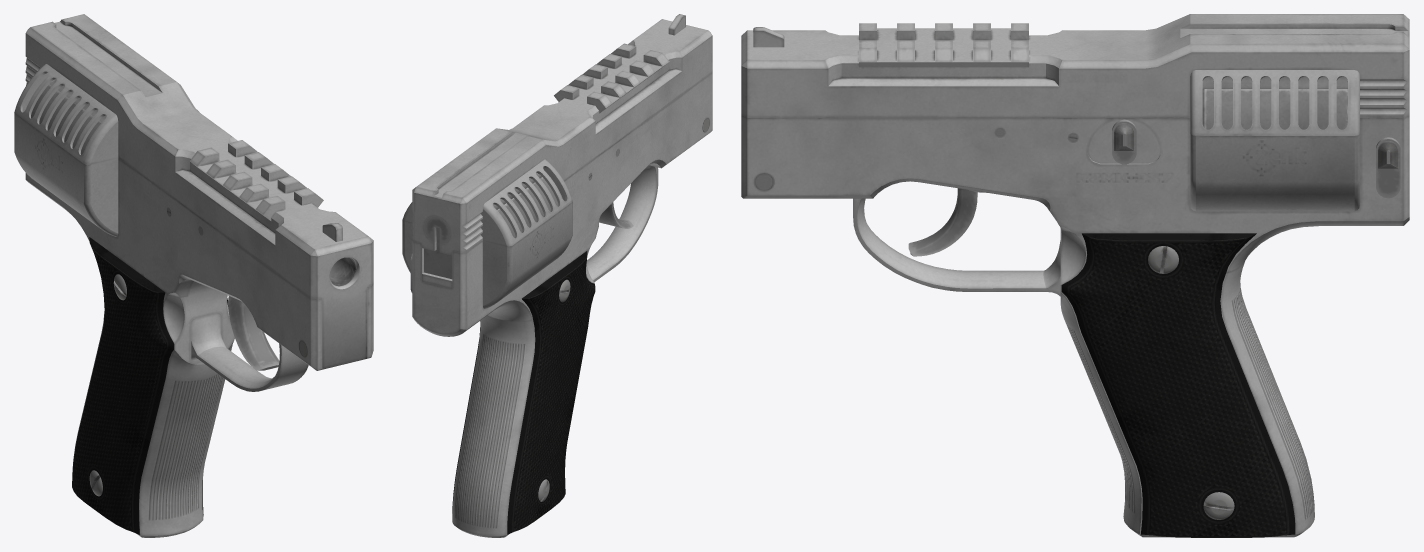
The model's file is zenk_rzmk-357.glb.
3 renders of one model, left to right at view 1: azimuth 30°, elevation 25°; view 2: azimuth 150°, elevation 25°; view 3: azimuth 270°, elevation 25°, orthographic. The views are drawn at different scales.
Visible parts, largest first — view 1: RZMK_main, RZMK_upper, RZMK_upper_shroud_low.001, RZMK_trigger_low.001, RZMK_cylinder_low.001, RZMK_barrel_low.001; view 2: RZMK_main, RZMK_upper, RZMK_upper_shroud_low.001, RZMK_cylinder_low.001, RZMK_hammer_low.001, RZMK_breach_low.001, RZMK_trigger_low.001; view 3: RZMK_main, RZMK_upper, RZMK_upper_shroud_low.001, RZMK_cylinder_low.001, RZMK_trigger_low.001, RZMK_release_low.001, RZMK_selector_low.001.
Boxes of the visible parts, x1,y1,x2,y2 form: RZMK_main: (14,110,373,537); RZMK_upper: (25,14,373,369); RZMK_upper_shroud_low.001: (14,64,198,164); RZMK_trigger_low.001: (228,296,279,370); RZMK_cylinder_low.001: (31,79,106,154); RZMK_barrel_low.001: (330,257,356,286); RZMK_main: (402,72,712,537); RZMK_upper: (412,19,712,288); RZMK_upper_shroud_low.001: (402,159,572,246); RZMK_cylinder_low.001: (493,172,558,237); RZMK_hammer_low.001: (424,227,452,279); RZMK_breach_low.001: (424,217,449,243); RZMK_trigger_low.001: (599,202,633,228); RZMK_main: (741,115,1409,537); RZMK_upper: (741,14,1409,117); RZMK_upper_shroud_low.001: (1190,70,1359,135); RZMK_cylinder_low.001: (1202,77,1347,129); RZMK_trigger_low.001: (908,188,987,256); RZMK_release_low.001: (1376,137,1400,198); RZMK_selector_low.001: (1112,119,1136,164).
Size of the model in its own units: 0.0558 by 0.1793 by 0.2207.
1 material, 1 textured.
